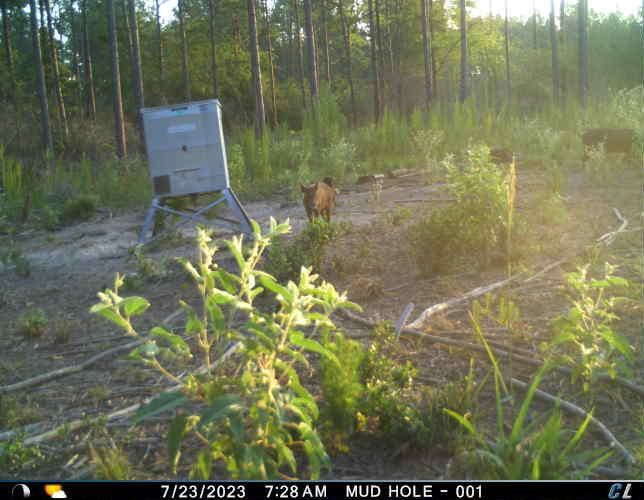Hog: (579, 123, 644, 169), (300, 180, 336, 226)
